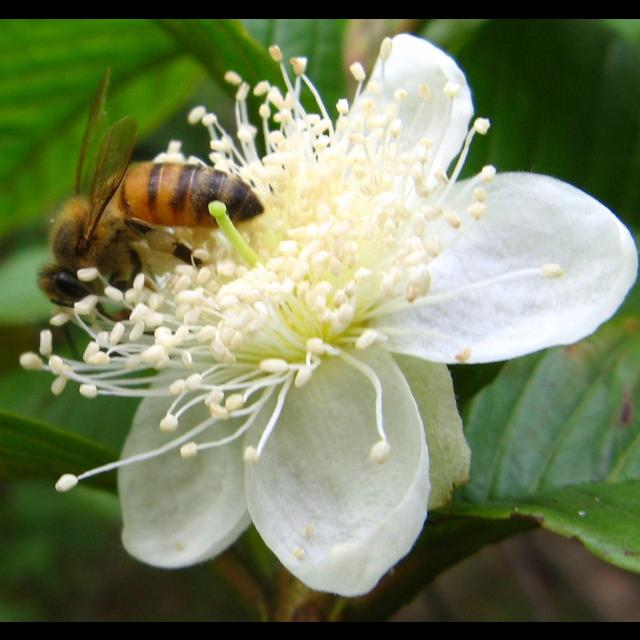Flower: (23, 19, 589, 614)
